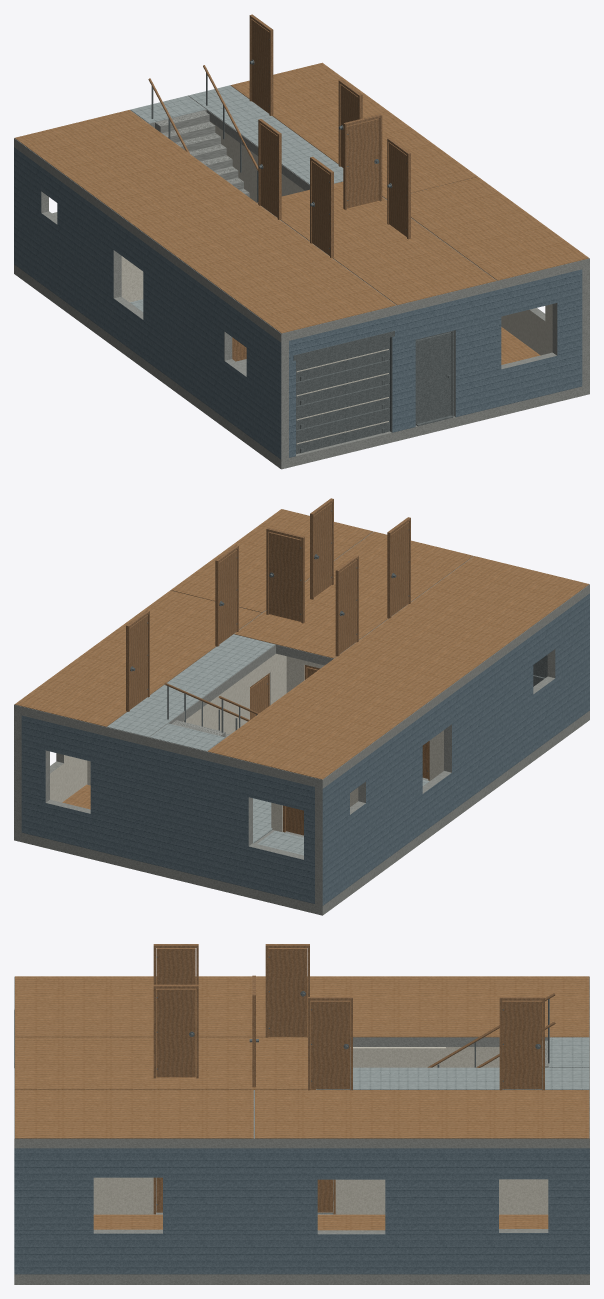
Rendered from PZ_House_GroundFloor_and_Interior.glb.
3 renders of one model, top to bottom at view 1: azimuth 30°, elevation 25°; view 2: azimuth 150°, elevation 25°; view 3: azimuth 270°, elevation 25°, orthographic. The views are drawn at different scales.
Parts seen in each view (by area): view 1: 0010_Finish_UpperDeck_WestWing, 0012_Finish_UpperDeck_ForwardHall, 0016_Finish_UpperDeck_EastFront, 0014_Finish_UpperDeck_EastWing, MOD_G_ExtFront_2mCell+00_ExteriorSiding, 0001_Foundation_ReinforcedSlab_8x12m, MOD_G_ExtFront_2mCell+01_ExteriorSiding, MOD_G_ExtWest_2mCell+02_ExteriorSiding, MOD_G_ExtWest_2mCell+04_ExteriorSiding, MOD_G_ExtWest_2mCell+00_ExteriorSiding, MOD_G_ExtWest_2mCell+05_ExteriorSiding, MOD_G_ExtWest_2mCell+01_ExteriorSiding (+30 smaller); view 2: 0010_Finish_UpperDeck_WestWing, 0014_Finish_UpperDeck_EastWing, MOD_G_ExtRear_2mCell-01_ExteriorSiding, MOD_G_ExtRear_2mCell+00_ExteriorSiding, 0012_Finish_UpperDeck_ForwardHall, 0001_Foundation_ReinforcedSlab_8x12m, MOD_G_ExtRear_2mCell+01_ExteriorSiding, MOD_G_ExtRear_2mCell-02_ExteriorSiding, 0016_Finish_UpperDeck_EastFront, MOD_G_ExtWest_2mCell+02_ExteriorSiding, MOD_G_ExtWest_2mCell+04_ExteriorSiding, 0018_Finish_UpperDeck_RightCorridor (+28 smaller); view 3: 0010_Finish_UpperDeck_WestWing, 0014_Finish_UpperDeck_EastWing, 0012_Finish_UpperDeck_ForwardHall, MOD_G_ExtEast_2mCell+02_ExteriorSiding, MOD_G_ExtEast_2mCell+04_ExteriorSiding, 0016_Finish_UpperDeck_EastFront, MOD_G_ExtEast_2mCell+00_ExteriorSiding, MOD_G_ExtEast_2mCell+05_ExteriorSiding, MOD_G_ExtEast_2mCell+01_ExteriorSiding, MOD_G_ExtEast_2mCell+03_ExteriorSiding, 0001_Foundation_ReinforcedSlab_8x12m, 0018_Finish_UpperDeck_RightCorridor (+20 smaller).
Part boxes in pixels (x1,y1,x2,y2): 0010_Finish_UpperDeck_WestWing: [15, 110, 396, 333]; 0012_Finish_UpperDeck_ForwardHall: [257, 181, 496, 305]; 0016_Finish_UpperDeck_EastFront: [387, 177, 588, 280]; 0014_Finish_UpperDeck_EastWing: [230, 62, 477, 199]; MOD_G_ExtFront_2mCell+00_ExteriorSiding: [435, 286, 512, 416]; 0001_Foundation_ReinforcedSlab_8x12m: [14, 264, 589, 469]; MOD_G_ExtFront_2mCell+01_ExteriorSiding: [512, 269, 582, 403]; MOD_G_ExtWest_2mCell+02_ExteriorSiding: [147, 245, 192, 394]; MOD_G_ExtWest_2mCell+04_ExteriorSiding: [58, 180, 102, 328]; MOD_G_ExtWest_2mCell+00_ExteriorSiding: [236, 310, 281, 459]; MOD_G_ExtWest_2mCell+05_ExteriorSiding: [14, 147, 58, 296]; MOD_G_ExtWest_2mCell+01_ExteriorSiding: [192, 278, 236, 426]; 0010_Finish_UpperDeck_WestWing: [207, 556, 589, 779]; 0014_Finish_UpperDeck_EastWing: [14, 590, 261, 726]; MOD_G_ExtRear_2mCell-01_ExteriorSiding: [168, 751, 245, 886]; MOD_G_ExtRear_2mCell+00_ExteriorSiding: [91, 732, 168, 868]; 0012_Finish_UpperDeck_ForwardHall: [234, 531, 472, 658]; 0001_Foundation_ReinforcedSlab_8x12m: [14, 710, 589, 915]; MOD_G_ExtRear_2mCell+01_ExteriorSiding: [21, 715, 91, 849]; MOD_G_ExtRear_2mCell-02_ExteriorSiding: [245, 770, 314, 903]; 0016_Finish_UpperDeck_EastFront: [170, 509, 372, 612]; MOD_G_ExtWest_2mCell+02_ExteriorSiding: [456, 658, 500, 807]; MOD_G_ExtWest_2mCell+04_ExteriorSiding: [367, 724, 411, 872]; 0018_Finish_UpperDeck_RightCorridor: [107, 634, 275, 737]; 0010_Finish_UpperDeck_WestWing: [15, 976, 589, 1037]; 0014_Finish_UpperDeck_EastWing: [255, 1090, 589, 1138]; 0012_Finish_UpperDeck_ForwardHall: [15, 1037, 315, 1089]; MOD_G_ExtEast_2mCell+02_ExteriorSiding: [206, 1148, 302, 1274]; MOD_G_ExtEast_2mCell+04_ExteriorSiding: [398, 1148, 493, 1274]; 0016_Finish_UpperDeck_EastFront: [15, 1090, 253, 1138]; MOD_G_ExtEast_2mCell+00_ExteriorSiding: [14, 1148, 110, 1274]; MOD_G_ExtEast_2mCell+05_ExteriorSiding: [494, 1148, 589, 1274]; MOD_G_ExtEast_2mCell+01_ExteriorSiding: [110, 1148, 206, 1274]; MOD_G_ExtEast_2mCell+03_ExteriorSiding: [302, 1148, 397, 1274]; 0001_Foundation_ReinforcedSlab_8x12m: [14, 1212, 589, 1284]; 0018_Finish_UpperDeck_RightCorridor: [317, 1067, 589, 1089].
Bounding box in the file's own units: 8 × 5.49 × 12.01.
Materials: 7 (7 with a texture image).
